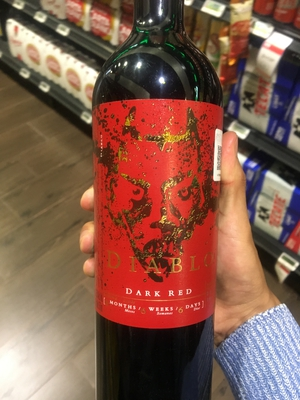diablo dark red: (85, 20, 233, 382)
